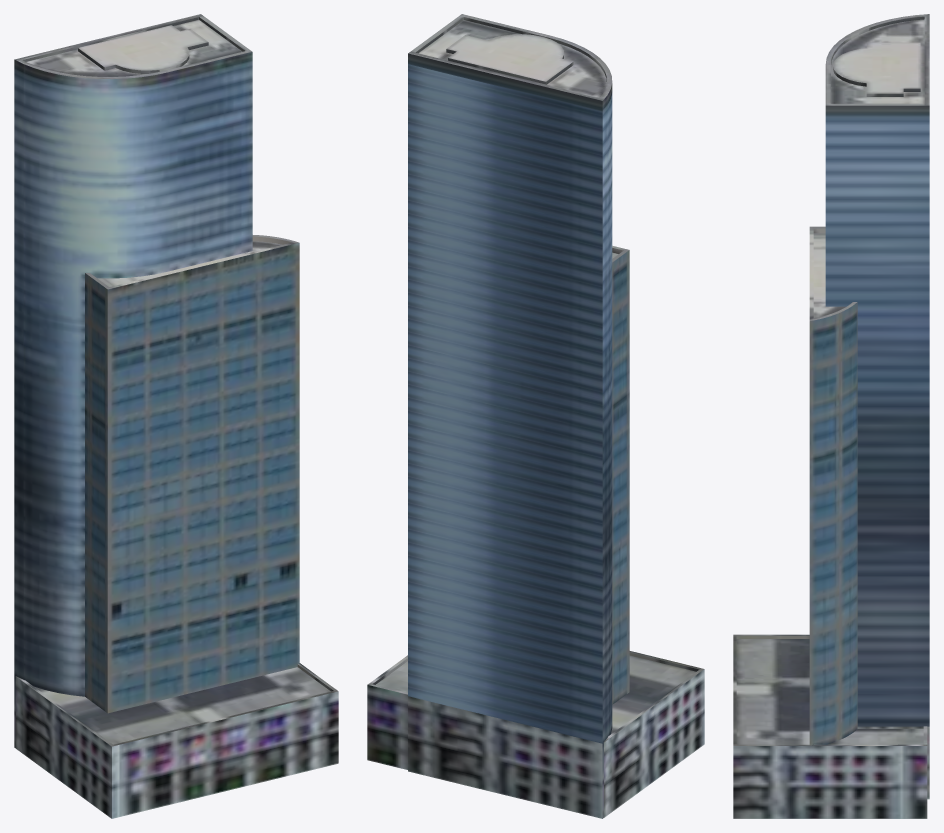
Rendered from fortune_building_c90a567b.glb.
3 views of the same model, side by side, from view 1: azimuth 30°, elevation 25°; view 2: azimuth 150°, elevation 25°; view 3: azimuth 270°, elevation 25° (orthographic). The views are drawn at different scales.
Parts seen in each view (by area): view 1: fortune_building_c90a567b; view 2: fortune_building_c90a567b; view 3: fortune_building_c90a567b.
Boxes of the visible parts, x1,y1,x2,y2 form: fortune_building_c90a567b: (14, 14, 338, 818); fortune_building_c90a567b: (367, 14, 704, 818); fortune_building_c90a567b: (733, 14, 929, 818).
Bounding box in the file's own units: 75.16 × 218 × 55.98.
Materials: 1 (1 with a texture image).
